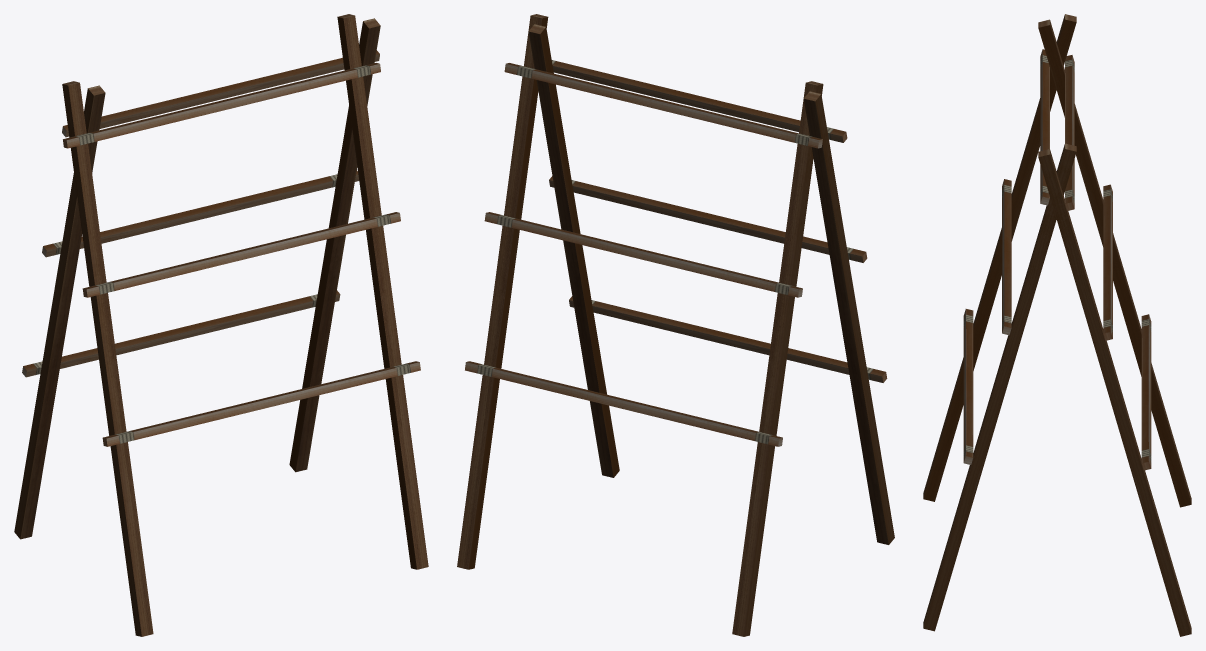
The model's file is BO_Sin1_DryingRack.FBX.
The picture shows the model from 3 angles, left to right: view 1: azimuth 30°, elevation 25°; view 2: azimuth 150°, elevation 25°; view 3: azimuth 270°, elevation 25°; orthographic projection. The views are drawn at different scales.
Visible parts, largest first — view 1: BO_Sin1_DryingRack; view 2: BO_Sin1_DryingRack; view 3: BO_Sin1_DryingRack.
Boxes of the visible parts, x1,y1,x2,y2 form: BO_Sin1_DryingRack: [14, 14, 428, 636]; BO_Sin1_DryingRack: [457, 14, 894, 636]; BO_Sin1_DryingRack: [923, 14, 1191, 636].
Size of the model in its own units: 324 by 477 by 240.
